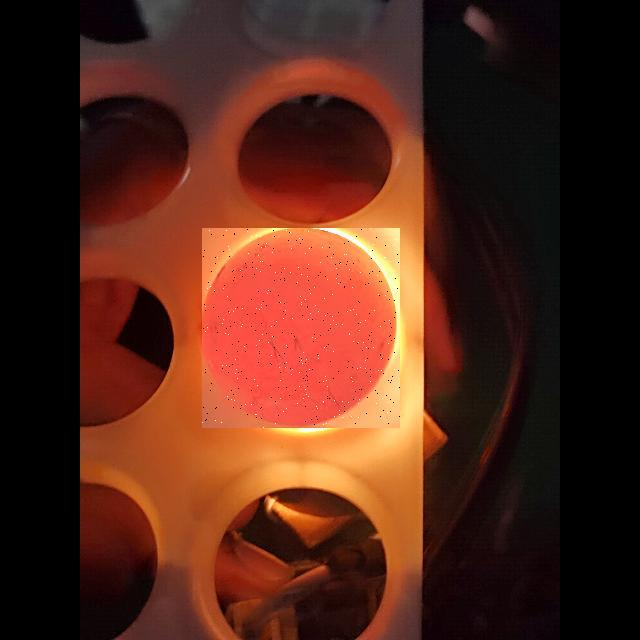Infertile: (202, 228, 400, 428)
